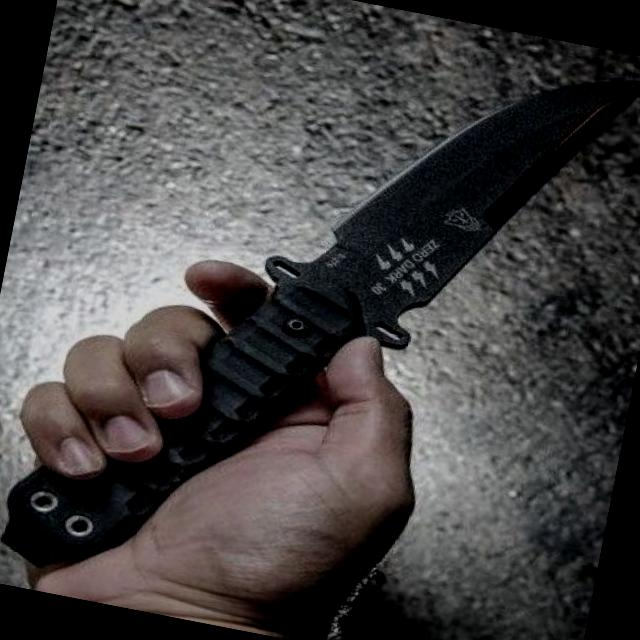knife: (181, 0, 639, 449)
